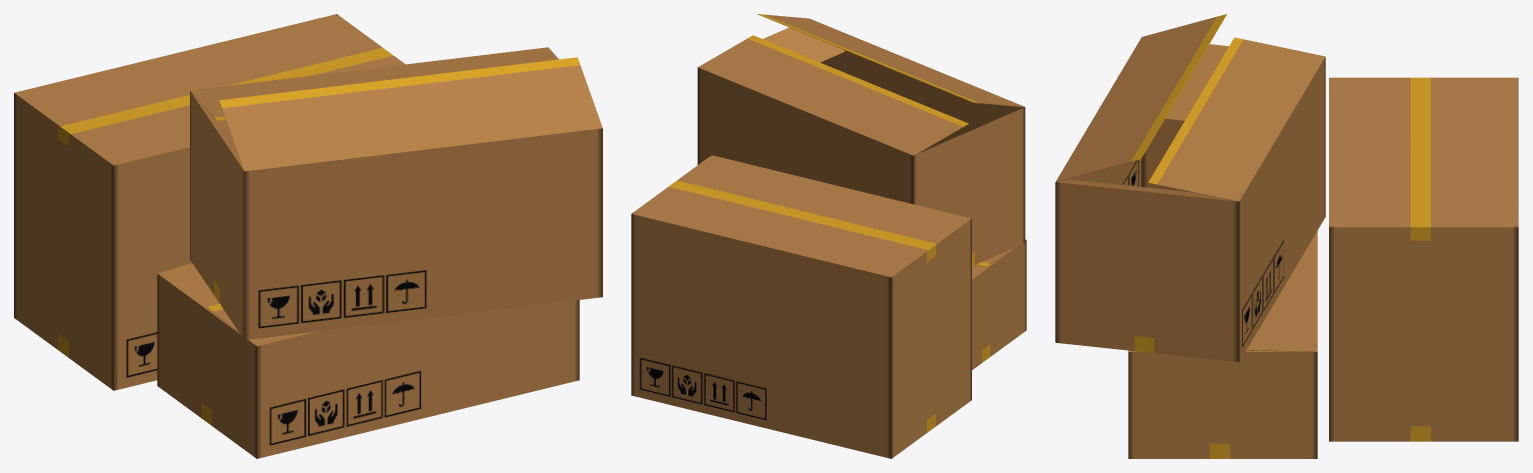
The model's file is Kardus.fbx.
3 renders of one model, left to right at view 1: azimuth 30°, elevation 25°; view 2: azimuth 150°, elevation 25°; view 3: azimuth 270°, elevation 25°, orthographic. The views are drawn at different scales.
Visible parts, largest first — view 1: Kardus_A, Kardus_C, Kardus_B; view 2: Kardus_C, Kardus_A, Kardus_B; view 3: Kardus_A, Kardus_C, Kardus_B.
Boxes of the visible parts, x1,y1,x2,y2 form: Kardus_A: (190,47,602,340); Kardus_C: (14,14,405,390); Kardus_B: (157,263,579,458); Kardus_C: (631,155,971,458); Kardus_A: (697,14,1025,266); Kardus_B: (972,239,1026,369); Kardus_A: (1055,14,1325,362); Kardus_C: (1329,77,1518,441); Kardus_B: (1128,231,1317,458).
Bounding box in the file's own units: 72 × 56.37 × 78.42.
Materials: 3 (3 with a texture image).
